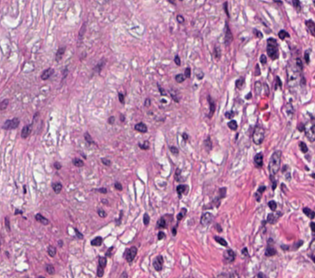nucleus: (268, 150, 280, 175), (266, 38, 278, 59), (252, 126, 264, 144), (224, 24, 232, 45), (93, 59, 105, 72), (40, 68, 53, 80), (200, 213, 213, 225), (35, 213, 48, 224), (55, 46, 65, 60), (208, 96, 215, 116), (306, 121, 313, 141), (305, 20, 314, 35), (78, 22, 85, 41), (267, 213, 280, 223), (134, 122, 146, 132), (52, 182, 62, 193), (177, 208, 186, 220), (254, 153, 262, 166), (176, 185, 186, 195), (303, 207, 313, 217), (84, 132, 93, 143), (91, 236, 102, 245), (215, 236, 226, 245), (170, 89, 178, 101), (278, 30, 288, 39), (228, 120, 237, 130), (72, 158, 83, 166), (283, 165, 289, 179), (158, 85, 166, 95), (299, 142, 307, 152), (268, 200, 276, 210), (157, 217, 165, 227), (74, 228, 82, 238), (236, 77, 243, 88), (292, 1, 300, 10), (214, 46, 220, 58), (175, 74, 184, 82), (143, 213, 149, 225), (296, 58, 302, 69), (97, 209, 105, 217), (139, 141, 148, 148), (101, 158, 110, 165), (260, 54, 266, 64), (174, 55, 180, 65), (184, 67, 190, 77), (118, 93, 124, 103), (224, 2, 228, 16), (177, 15, 184, 23), (225, 111, 233, 118), (114, 182, 121, 190), (258, 186, 265, 194), (62, 68, 67, 79), (175, 169, 180, 180), (95, 188, 106, 193), (219, 188, 225, 197), (170, 146, 177, 153), (54, 162, 61, 169), (158, 231, 164, 239), (276, 77, 281, 86), (310, 222, 314, 233), (255, 30, 261, 37), (108, 116, 114, 123), (304, 52, 308, 62), (255, 65, 259, 74), (144, 99, 149, 105), (298, 124, 303, 130), (182, 133, 187, 139), (58, 240, 62, 246), (272, 181, 275, 188), (172, 227, 175, 234), (246, 93, 250, 98), (120, 115, 123, 121)
